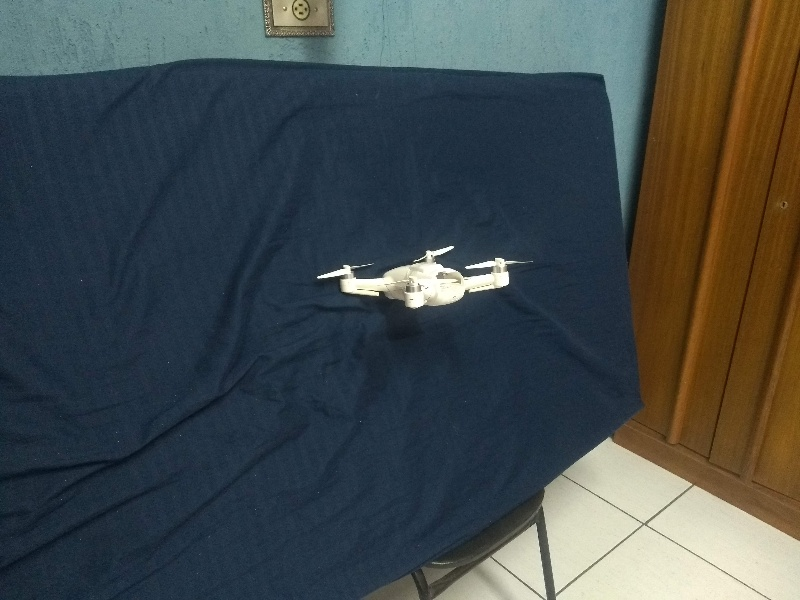drone: (321, 236, 531, 316)
